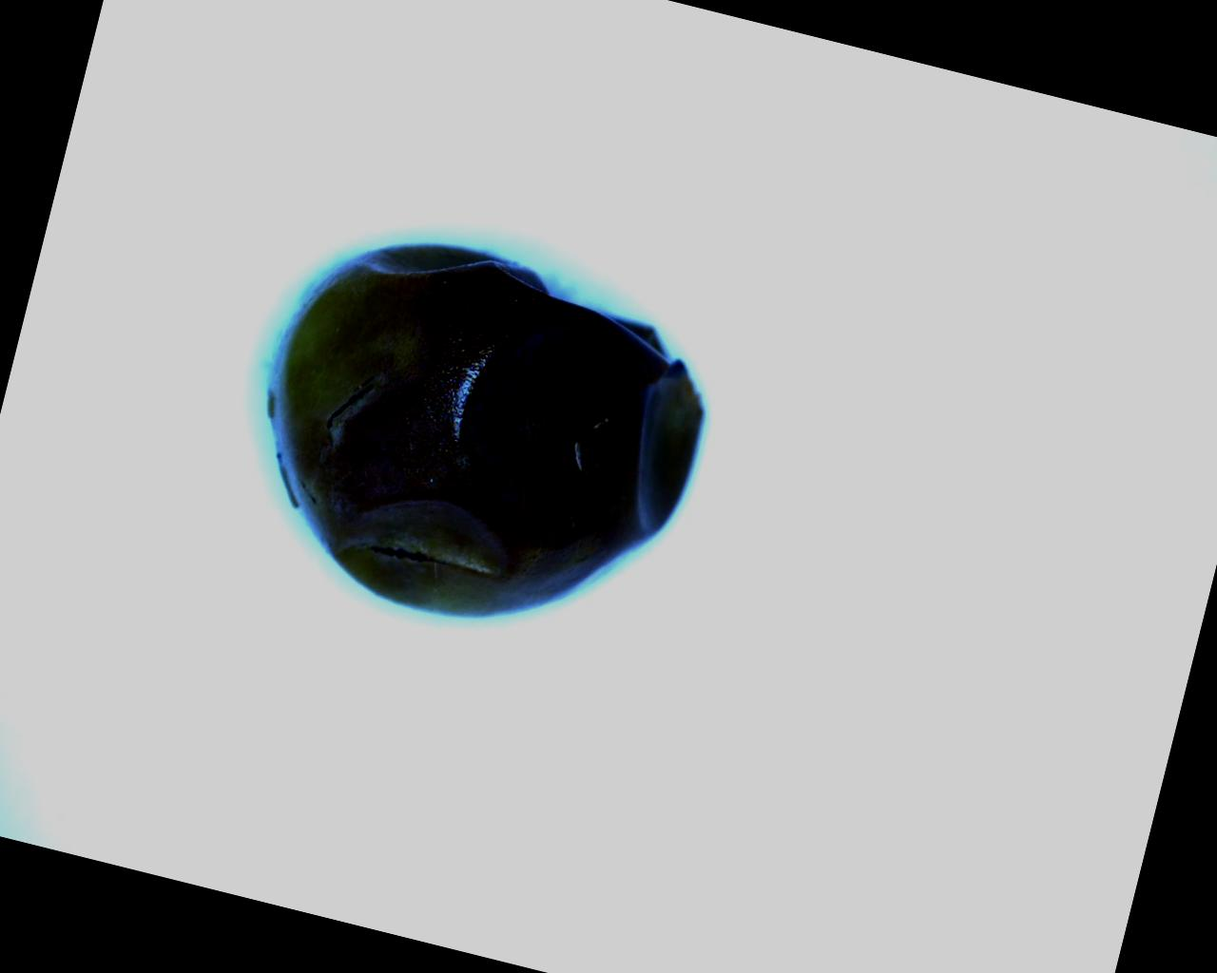Grape Rotten: (220, 204, 734, 667)
